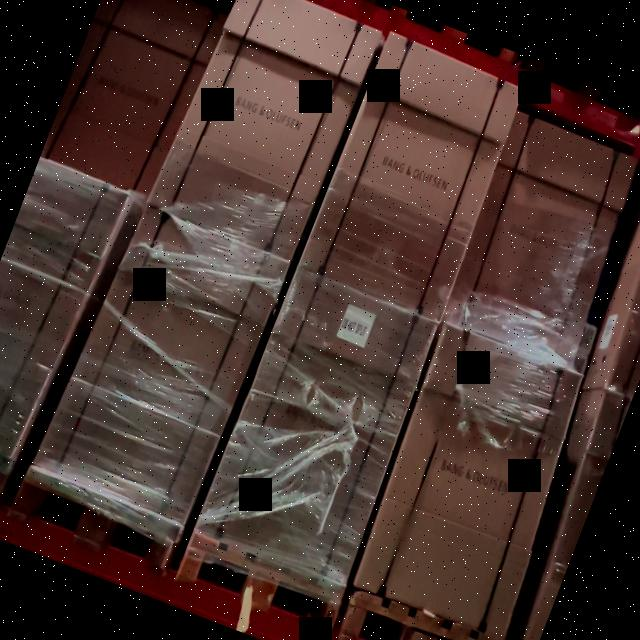box: (32, 205, 291, 527), (196, 263, 439, 585), (352, 324, 583, 639), (298, 31, 523, 321), (147, 0, 383, 263), (442, 112, 637, 362)
